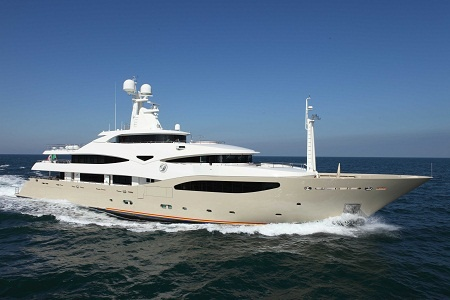yacht: (15, 75, 420, 228)
